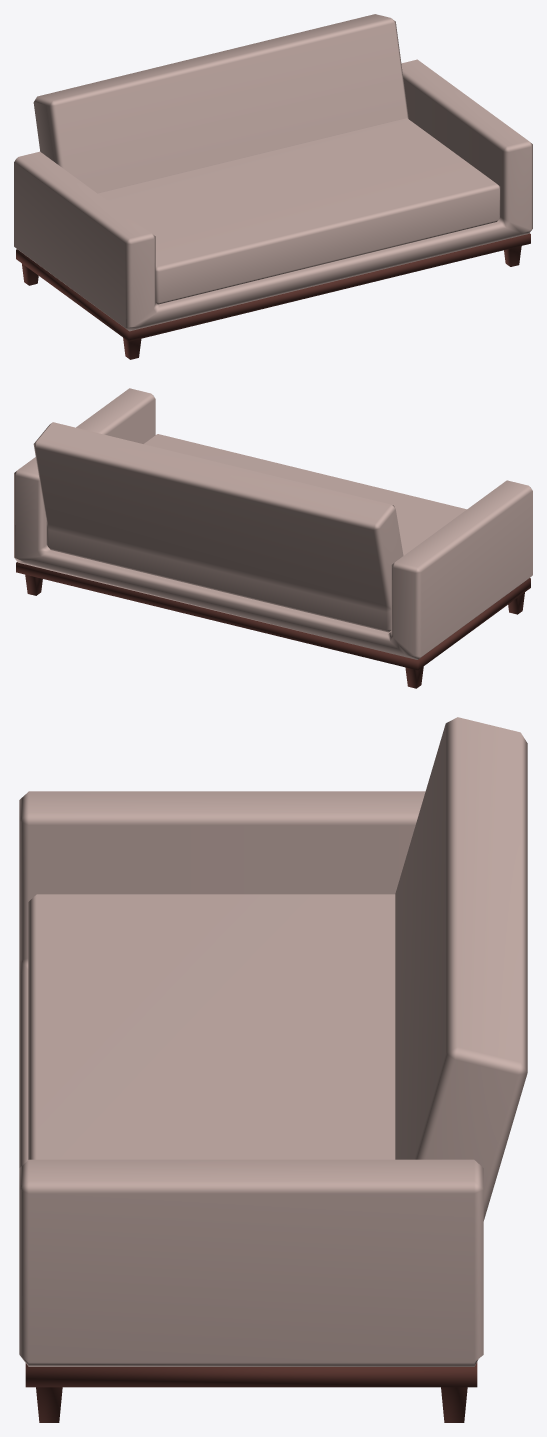
File: sofa_012.glb
3 renders of one model, top to bottom at view 1: azimuth 30°, elevation 25°; view 2: azimuth 150°, elevation 25°; view 3: azimuth 270°, elevation 25°, orthographic. The views are drawn at different scales.
Parts seen in each view (by area): view 1: sofa_012; view 2: sofa_012; view 3: sofa_012.
Part boxes in pixels (<box>): sofa_012: <box>14,14,532,359</box>; sofa_012: <box>14,388,532,688</box>; sofa_012: <box>19,717,527,1422</box>.
Bounding box in the file's own units: 1.86 × 0.7684 × 1.
Materials: 1 (1 with a texture image).
